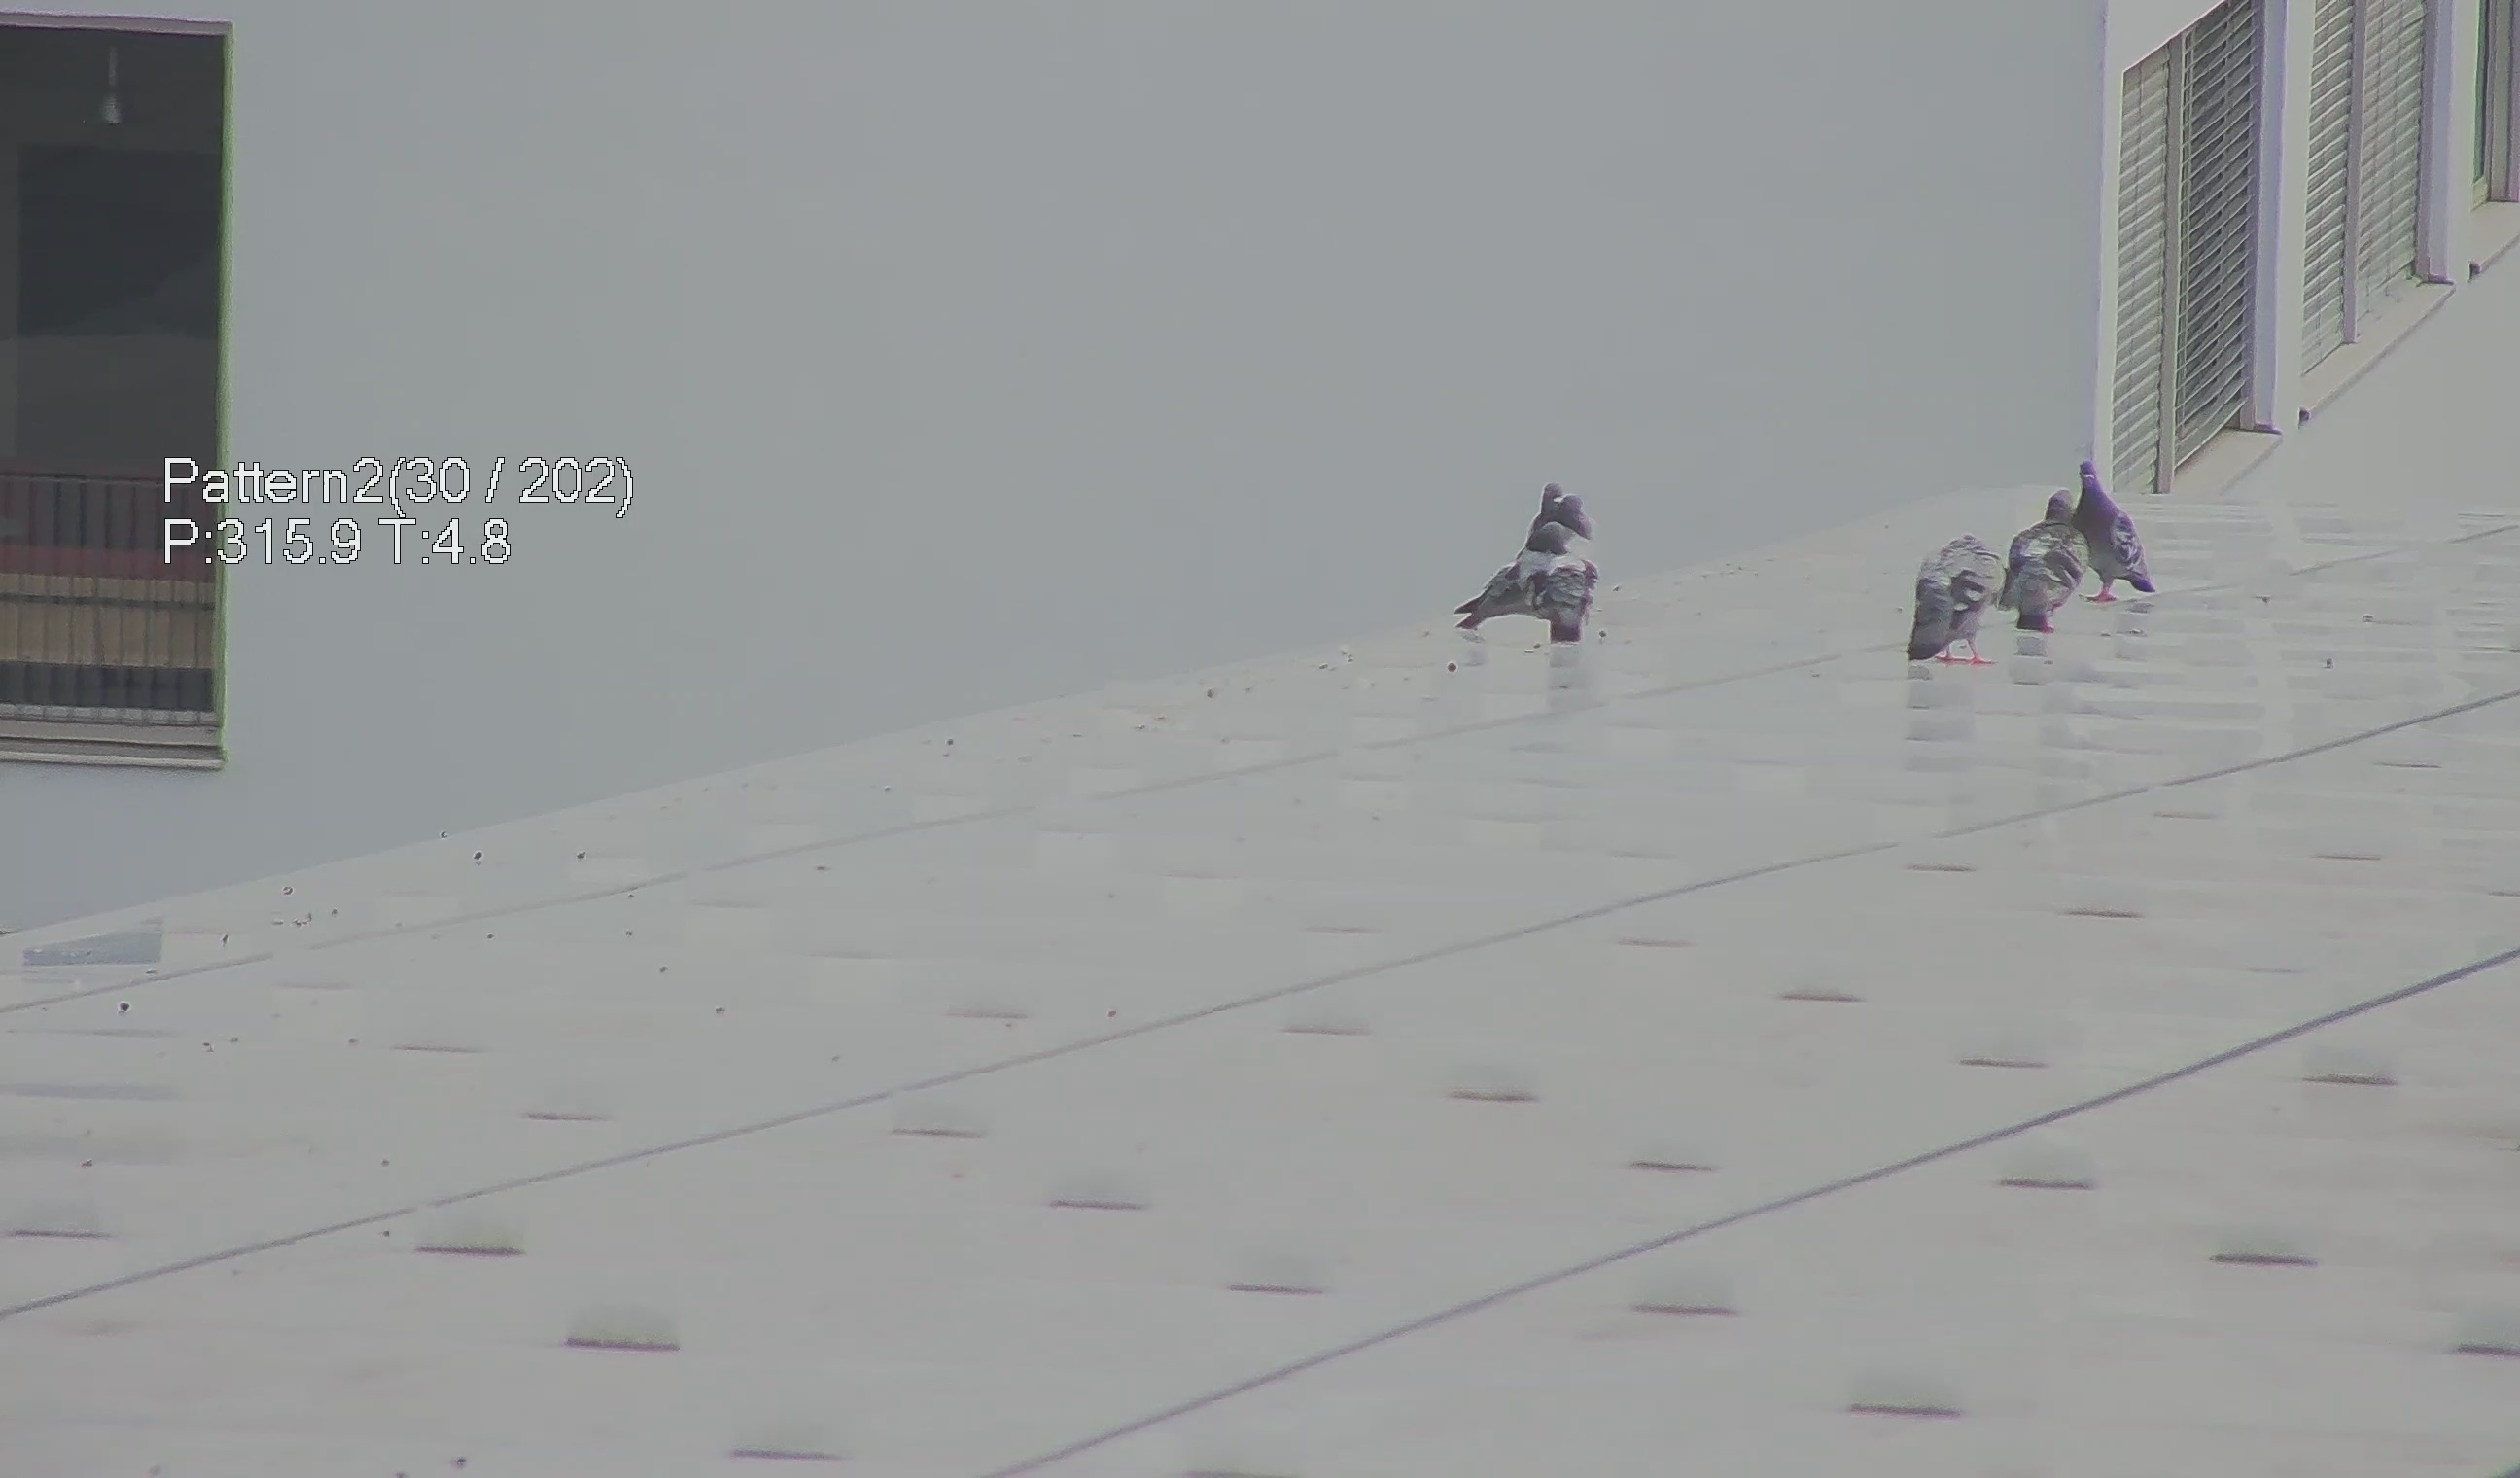Pigeon: (1504, 519, 1621, 651), (1903, 528, 2019, 660), (1994, 487, 2089, 637), (2065, 457, 2158, 602), (1530, 475, 1607, 537)
